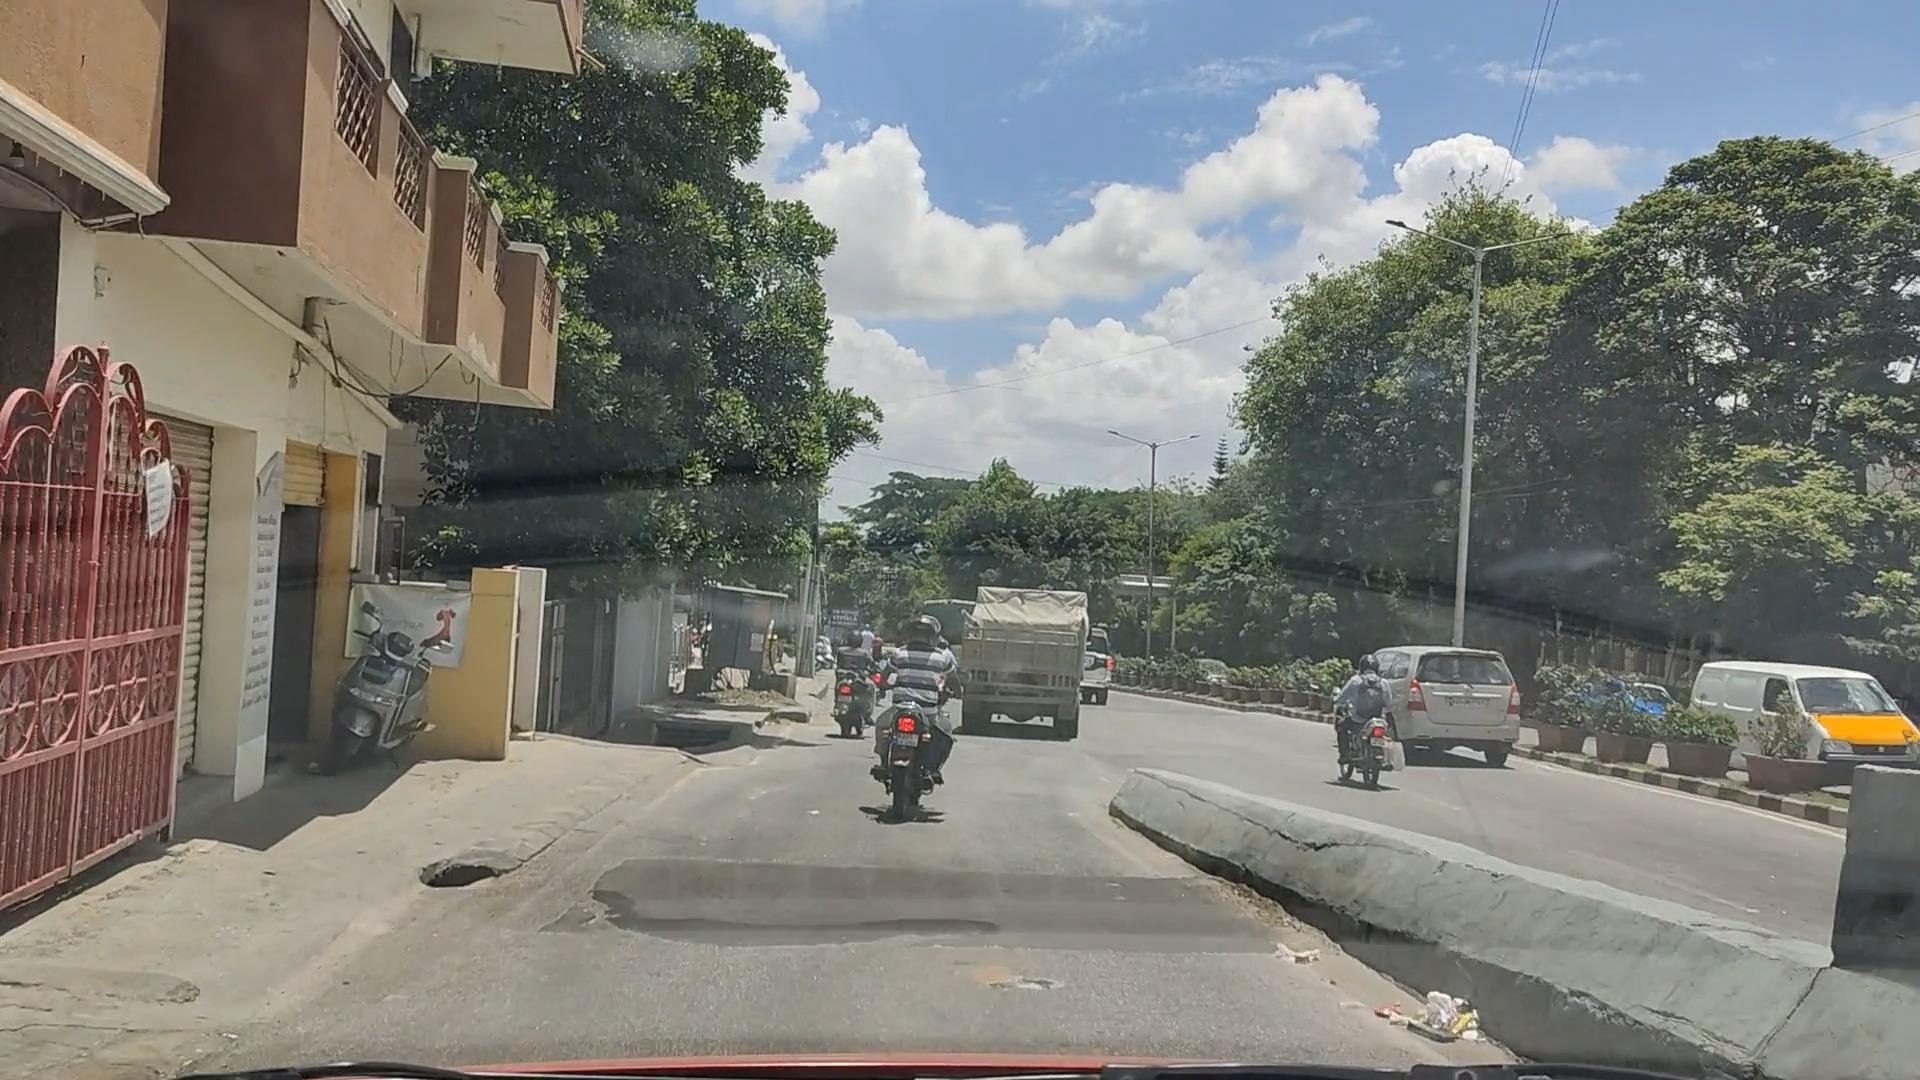HMV: (944, 561, 1108, 735)
LMV: (316, 586, 457, 791)
RoadDamages: (391, 823, 540, 912), (955, 950, 1075, 1012)
